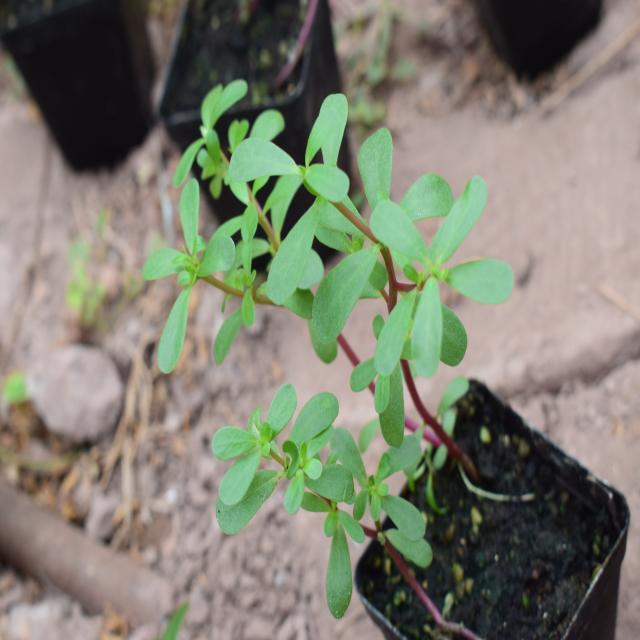purslane: (150, 74, 488, 581)
